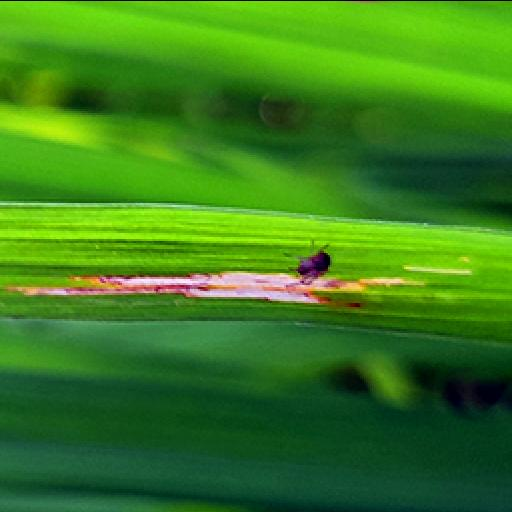Bacterial Leaf Blight: (2, 236, 474, 320)
